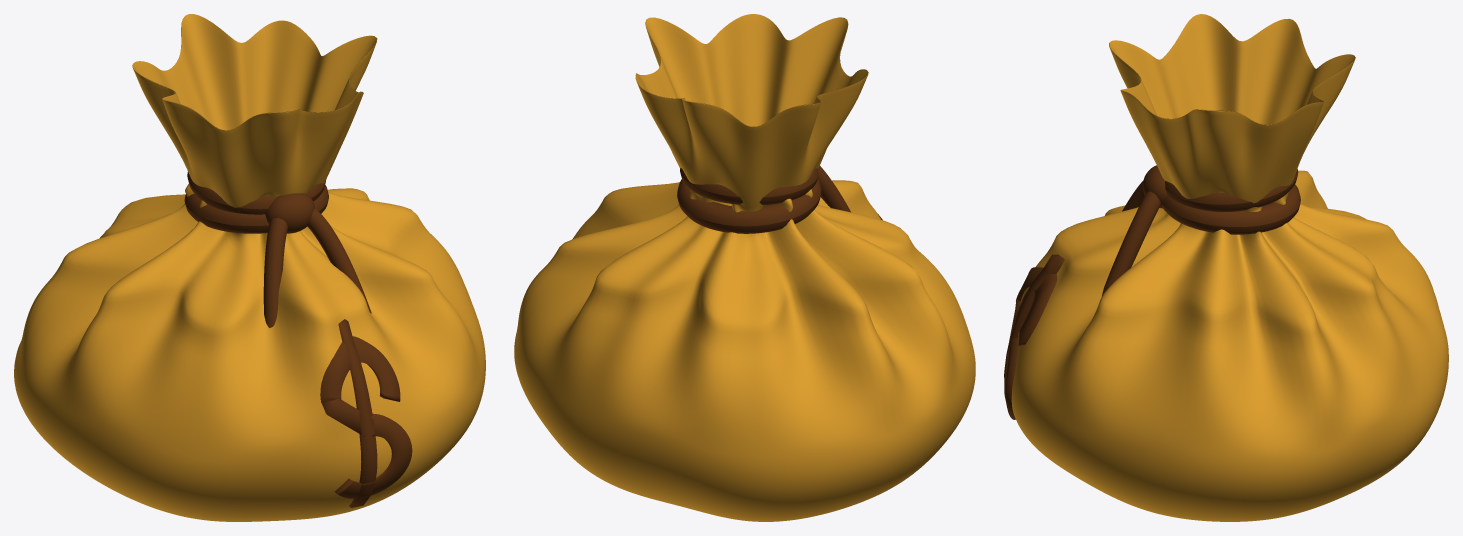
Rendered from MoneyBag.obj.
3 views of the same model, side by side, from view 1: azimuth 30°, elevation 25°; view 2: azimuth 150°, elevation 25°; view 3: azimuth 270°, elevation 25° (orthographic).
Visible parts, largest first — view 1: Bag, Dollar, DollarBar, Rope1, Tie2, Tie1, Knot, Rope2; view 2: Bag, Rope1, Rope2, Tie2; view 3: Bag, Rope1, Dollar, Tie1, Rope2, DollarBar, Knot.
Part boxes in pixels (left/top/right/bottom): Bag: left=14, top=14, right=485, bottom=521; Dollar: left=320, top=336, right=412, bottom=498; DollarBar: left=338, top=319, right=377, bottom=507; Rope1: left=184, top=185, right=328, bottom=233; Tie2: left=263, top=218, right=287, bottom=327; Tie1: left=307, top=208, right=371, bottom=313; Knot: left=265, top=193, right=314, bottom=233; Rope2: left=187, top=172, right=325, bottom=214; Bag: left=514, top=14, right=975, bottom=521; Rope1: left=677, top=178, right=821, bottom=233; Rope2: left=680, top=168, right=818, bottom=204; Tie2: left=818, top=165, right=850, bottom=212; Bag: left=1011, top=14, right=1448, bottom=521; Rope1: left=1162, top=184, right=1300, bottom=234; Dollar: left=1004, top=267, right=1057, bottom=419; Tie1: left=1102, top=191, right=1160, bottom=296; Rope2: left=1165, top=169, right=1298, bottom=211; DollarBar: left=1004, top=254, right=1064, bottom=382; Knot: left=1142, top=165, right=1167, bottom=208.
Size of the model in its own units: 1.04 by 1.03 by 0.9838.
